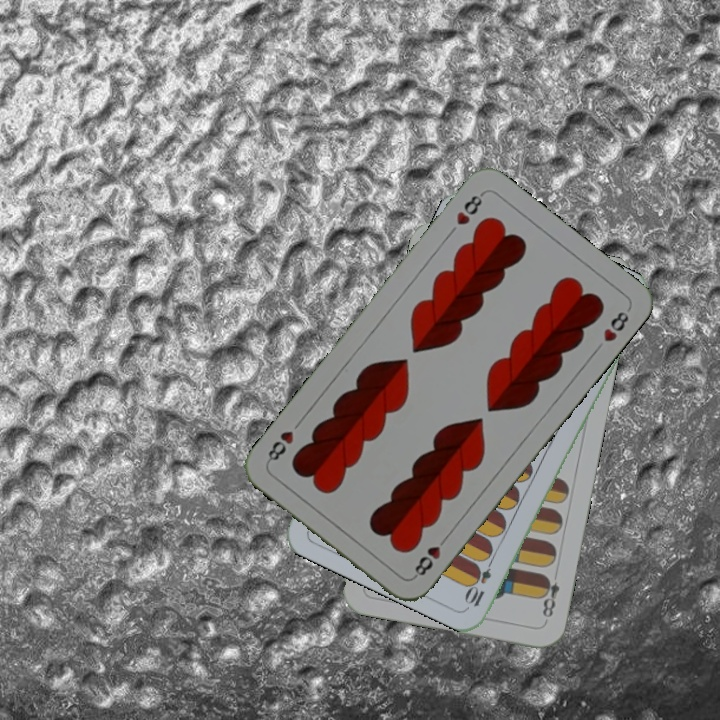E10: (463, 552, 497, 610)
E8: (536, 566, 562, 620)
H8: (409, 531, 451, 581), (452, 188, 486, 228)
